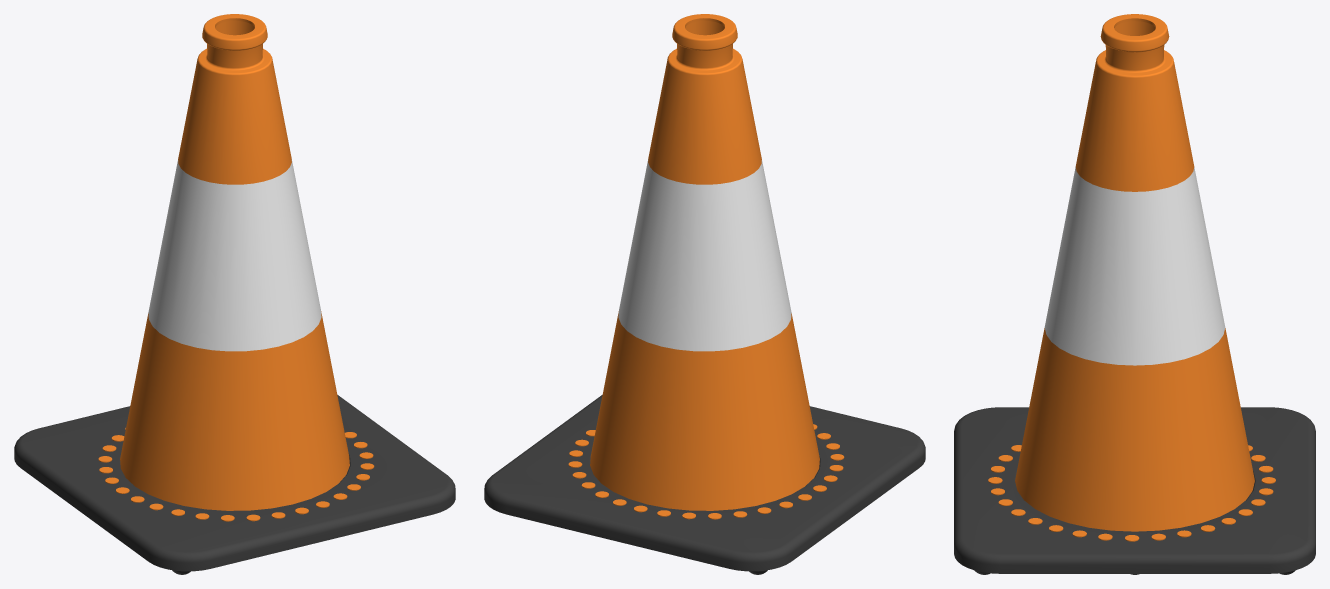
File: TrafficCone.glb
The picture shows the model from 3 angles, left to right: view 1: azimuth 30°, elevation 25°; view 2: azimuth 150°, elevation 25°; view 3: azimuth 270°, elevation 25°; orthographic projection. The views are drawn at different scales.
Parts seen in each view (by area): view 1: object34, object45, object35, object43; view 2: object34, object45, object35, object43; view 3: object34, object45, object35, object43.
Part boxes in pixels (<box>): object34: <box>120,311,349,510</box>; object45: <box>14,395,455,571</box>; object35: <box>148,159,321,351</box>; object43: <box>178,14,291,184</box>; object34: <box>590,311,819,510</box>; object45: <box>484,395,925,571</box>; object35: <box>618,159,791,351</box>; object43: <box>648,14,761,184</box>; object34: <box>1015,328,1254,531</box>; object45: <box>954,407,1315,573</box>; object35: <box>1044,167,1225,365</box>; object43: <box>1075,14,1194,191</box>.
Size of the model in its own units: 0.4821 by 0.7099 by 0.4821.
